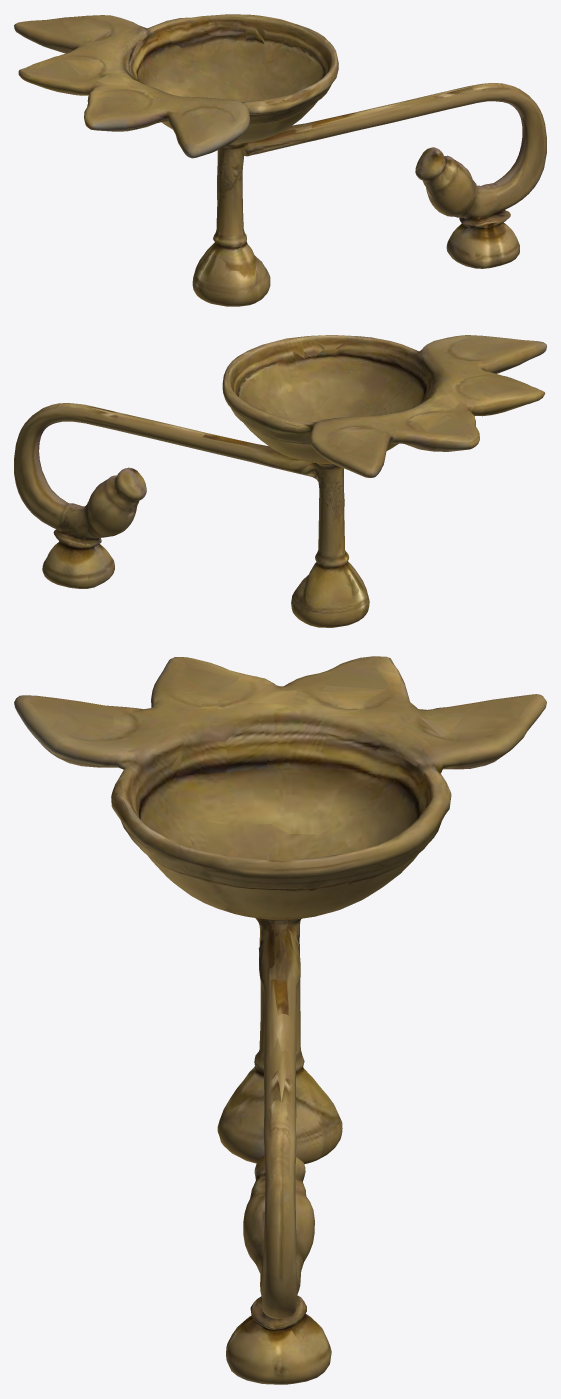
Rendered from golden.glb.
3 views of the same model, one above another, from view 1: azimuth 30°, elevation 25°; view 2: azimuth 150°, elevation 25°; view 3: azimuth 270°, elevation 25° (orthographic). The views are drawn at different scales.
Parts seen in each view (by area): view 1: Object_4; view 2: Object_4; view 3: Object_4.
Boxes of the visible parts, left/top/right/bottom form: Object_4: left=14, top=14, right=546, bottom=306; Object_4: left=14, top=335, right=546, bottom=627; Object_4: left=14, top=656, right=546, bottom=1384.
Size of the model in its own units: 1.99 by 1.03 by 1.24.
1 material, 1 textured.
